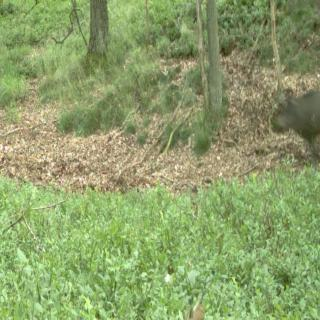Pig: (255, 65, 320, 158)
